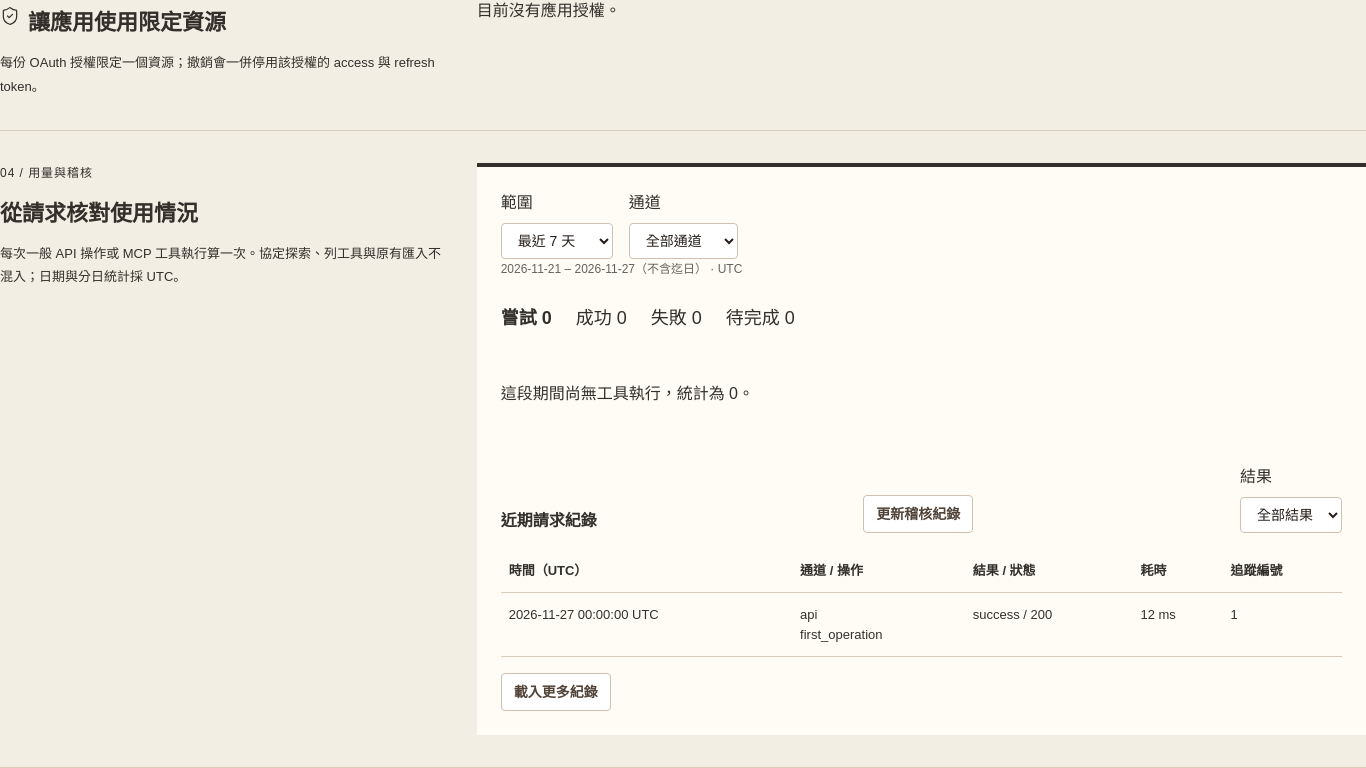
Test: loading another audit page preserves earlier records
(page scrolled)
Click the button "載入更多紀錄" at (556, 692), box [501, 673, 611, 711]
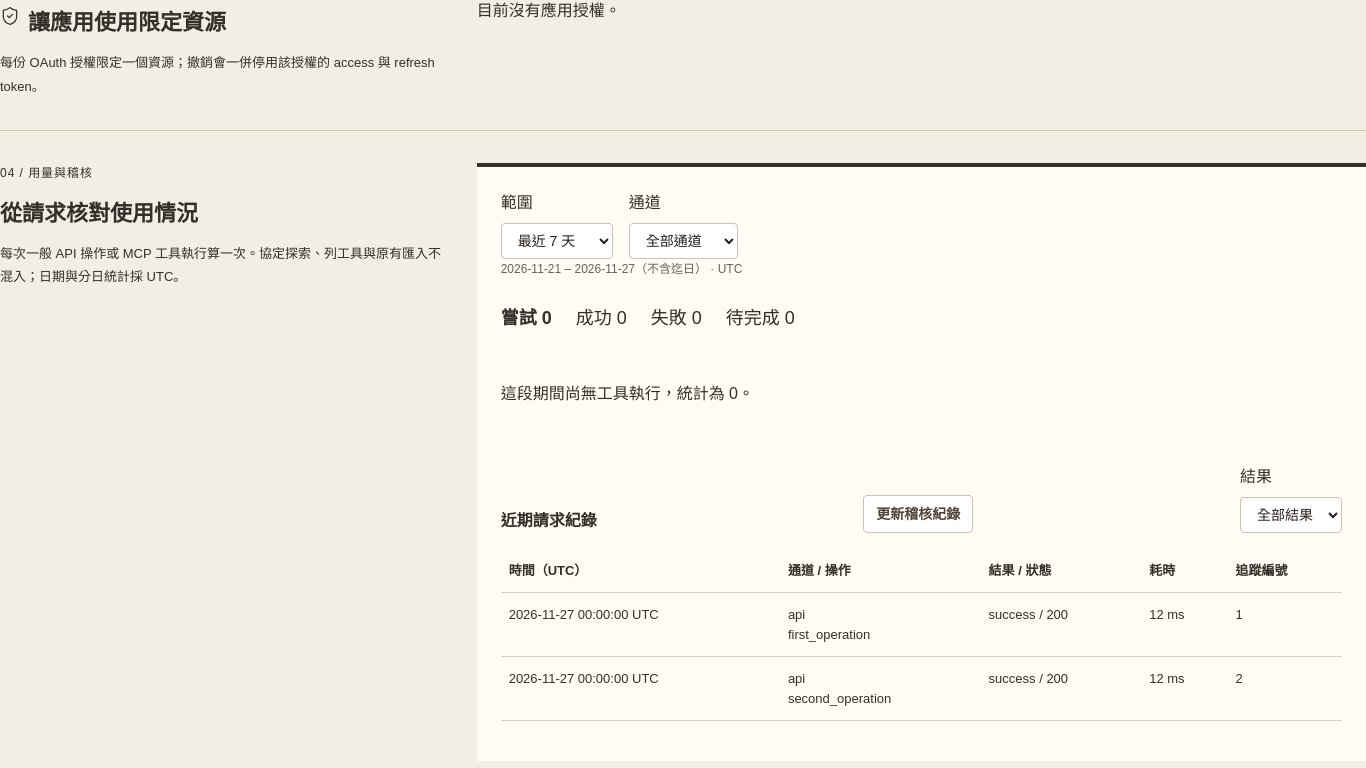
Check: the text "first_operation" is shown, box [788, 626, 870, 642]
Check: the text "second_operation" is shown, box [788, 690, 891, 706]
